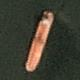ship: (20, 0, 60, 33)
